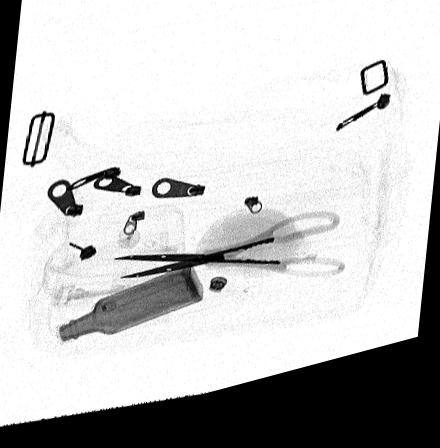Scissors: (108, 226, 349, 297)
